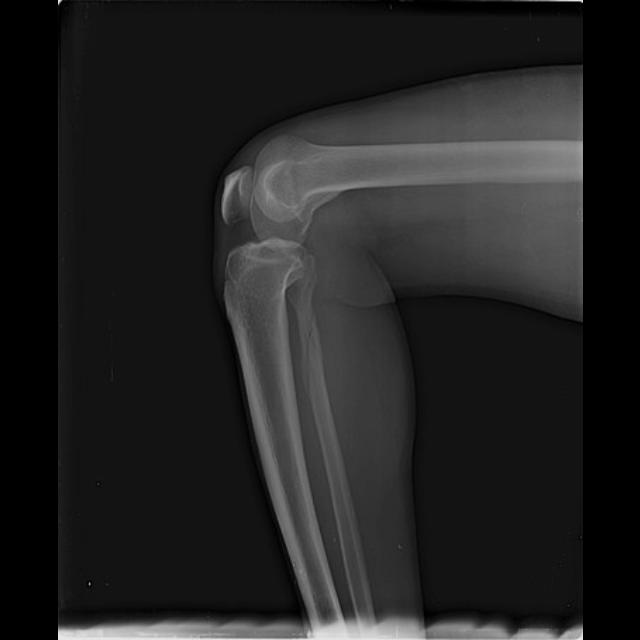Fracture: (298, 300, 321, 405)
